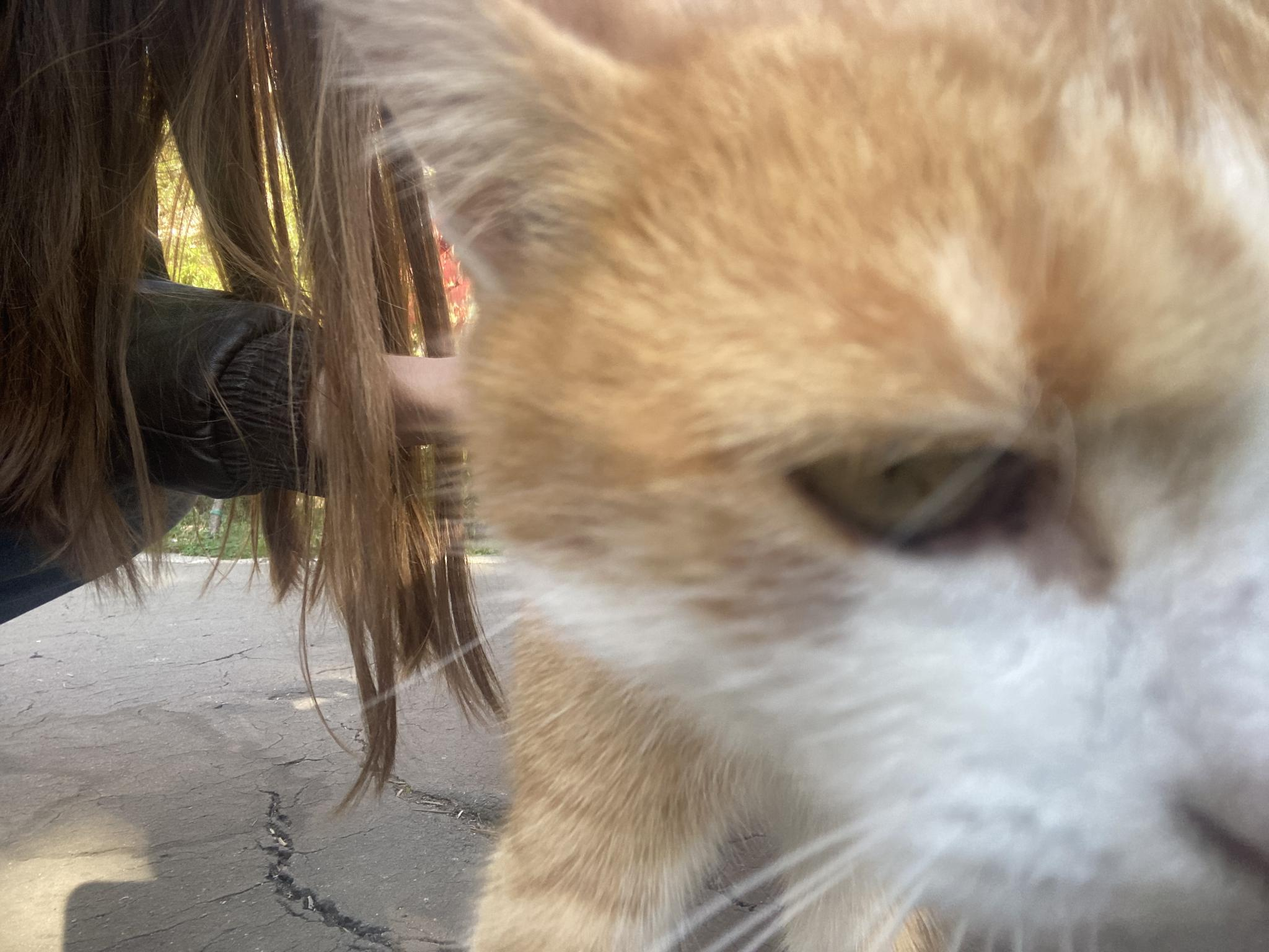macka: (316, 0, 1269, 952)
